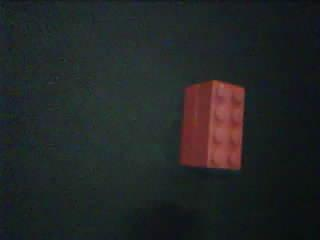lego: (178, 79, 246, 171)
